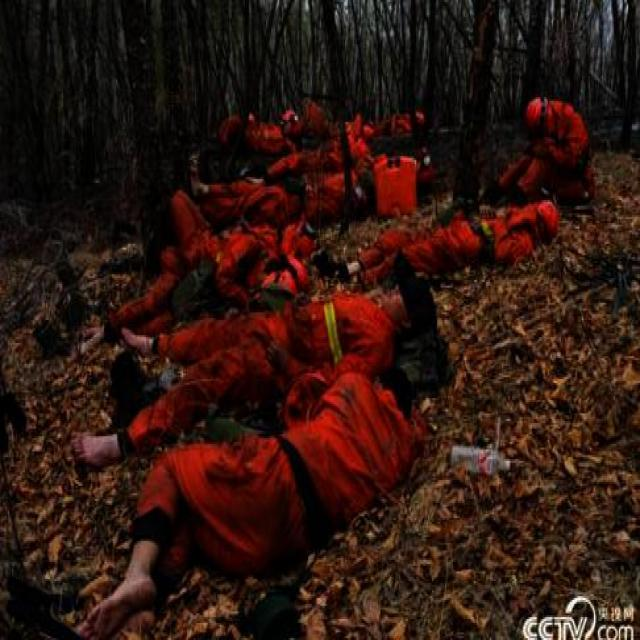fall: (88, 376, 412, 632), (338, 184, 562, 290)
